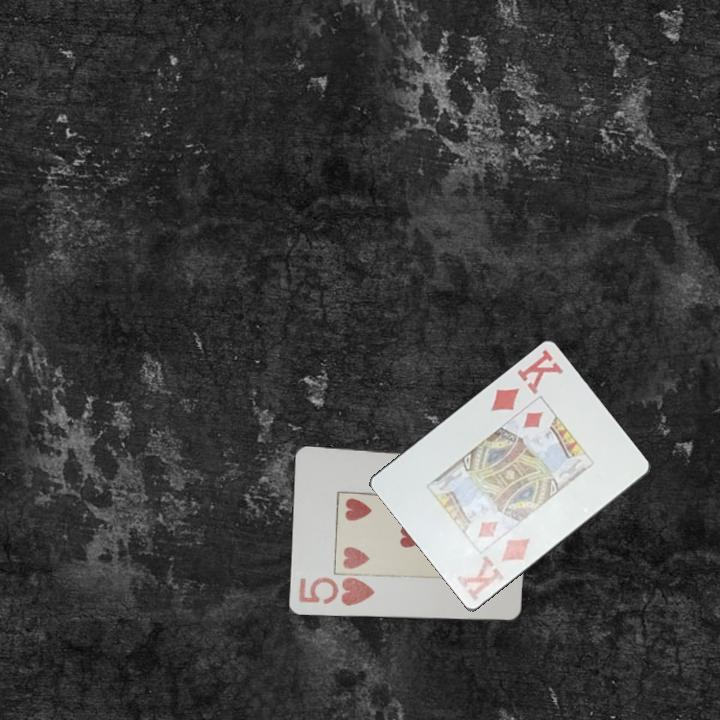5h: (295, 574, 377, 609)
Kd: (453, 535, 533, 604), (486, 346, 566, 415)
